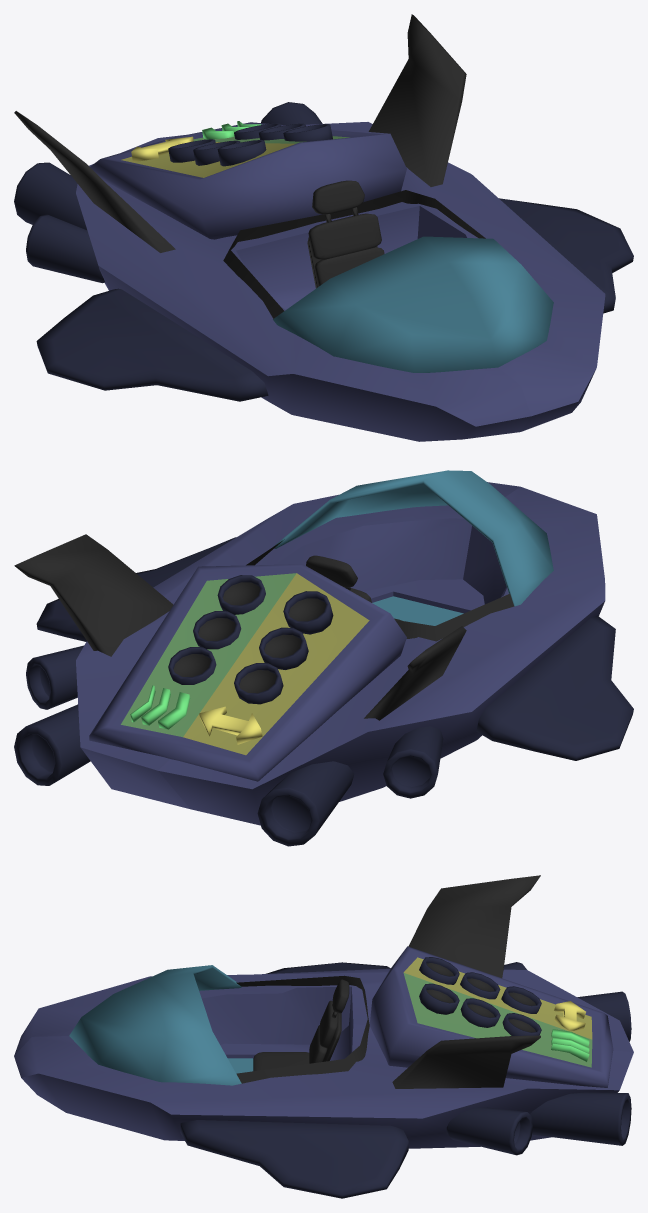
File: CycleEngine_Engine_v1.4.fbx
3 renders of one model, top to bottom at view 1: azimuth 30°, elevation 25°; view 2: azimuth 150°, elevation 25°; view 3: azimuth 270°, elevation 25°, orthographic. The views are drawn at different scales.
Parts seen in each view (by area): view 1: Base, cockpit.002, Back, Wings.001, Cube.003, Rockets, Wings, seat, Holders, cockpit.003; view 2: Base, Back, Rockets, Wings.001, Cube.003, cockpit.002, Holders, Wings, cockpit.003, Plane, seat; view 3: Base, Back, cockpit.002, Cube.003, Wings, Rockets, Holders, cockpit.003, seat, seat.001, Wings.001.
Part boxes in pixels (<box>): Base: <box>76,122,605,441</box>; cockpit.002: <box>273,236,553,372</box>; Back: <box>90,121,406,239</box>; Wings.001: <box>36,288,268,401</box>; Cube.003: <box>14,14,466,252</box>; Rockets: <box>14,102,322,283</box>; Wings: <box>499,198,633,313</box>; seat: <box>307,180,384,288</box>; Holders: <box>168,123,332,166</box>; cockpit.003: <box>223,190,485,318</box>; Base: <box>76,482,605,825</box>; Back: <box>89,564,406,781</box>; Rockets: <box>14,645,443,846</box>; Wings.001: <box>476,615,633,760</box>; Cube.003: <box>14,534,466,720</box>; cockpit.002: <box>273,470,553,606</box>; Holders: <box>168,575,333,704</box>; Wings: <box>36,537,236,641</box>; cockpit.003: <box>246,539,514,641</box>; Plane: <box>372,596,463,625</box>; seat: <box>306,555,371,602</box>; Base: <box>14,968,633,1148</box>; Back: <box>369,946,613,1087</box>; cockpit.002: <box>69,965,241,1085</box>; Cube.003: <box>392,875,540,1088</box>; Wings: <box>180,1120,408,1198</box>; Rockets: <box>446,962,631,1155</box>; Holders: <box>419,957,541,1035</box>; cockpit.003: <box>236,975,369,1083</box>; seat: <box>309,979,349,1063</box>; seat.001: <box>253,1052,309,1071</box>; Wings.001: <box>266,962,390,973</box>.
Bounding box in the file's own units: 610 × 183 × 689.
